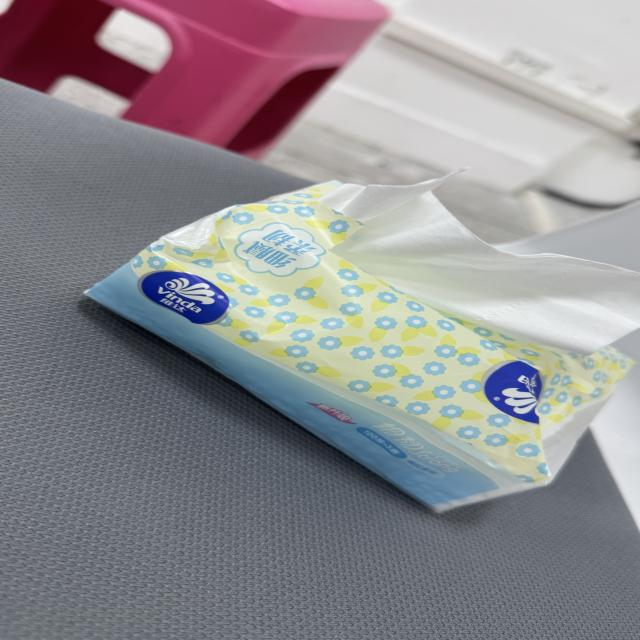tissue: (89, 181, 639, 510), (336, 177, 639, 355)
